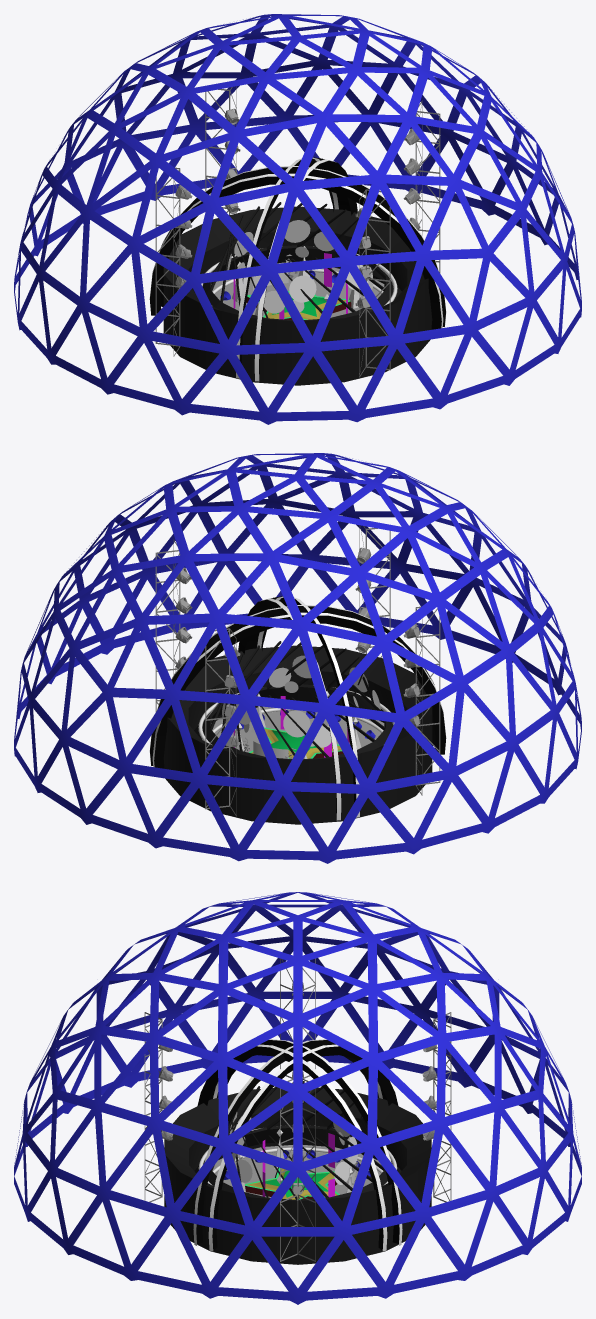
The model's file is stage.FBX.
3 views of the same model, one above another, from view 1: azimuth 30°, elevation 25°; view 2: azimuth 150°, elevation 25°; view 3: azimuth 270°, elevation 25° (orthographic).
Parts seen in each view (by area): view 1: GeoSphere001, Cylinder024, Cylinder023, Cylinder022, Object001, Cylinder001, Cylinder032, Plane043, Cylinder025, Plane044, Object006, Star001; view 2: GeoSphere001, Cylinder024, Cylinder022, Cylinder023, Object001, Cylinder001, Plane043, Plane042, Cylinder025, Cylinder032, Star001, Object006; view 3: GeoSphere001, Cylinder024, Cylinder022, Cylinder023, Object001, Cylinder001, Star001, Object006, Plane042, Plane044, Cylinder025.
Boxes of the visible parts, left/top/right/bottom form: GeoSphere001: left=14, top=14, right=581, bottom=424; Cylinder024: left=163, top=206, right=432, bottom=385; Cylinder023: left=149, top=166, right=446, bottom=329; Cylinder022: left=236, top=157, right=357, bottom=381; Object001: left=210, top=202, right=385, bottom=318; Cylinder001: left=211, top=267, right=384, bottom=317; Cylinder032: left=263, top=265, right=373, bottom=313; Plane043: left=155, top=167, right=180, bottom=356; Cylinder025: left=227, top=220, right=333, bottom=270; Plane044: left=359, top=189, right=390, bottom=377; Object006: left=415, top=100, right=440, bottom=273; Star001: left=246, top=291, right=351, bottom=319; GeoSphere001: left=14, top=453, right=581, bottom=863; Cylinder024: left=163, top=645, right=432, bottom=824; Cylinder022: left=149, top=605, right=446, bottom=768; Cylinder023: left=238, top=596, right=359, bottom=820; Object001: left=210, top=641, right=385, bottom=757; Cylinder001: left=211, top=706, right=384, bottom=752; Plane043: left=415, top=606, right=440, bottom=795; Plane042: left=205, top=628, right=236, bottom=816; Cylinder025: left=222, top=703, right=331, bottom=747; Cylinder032: left=269, top=655, right=380, bottom=709; Star001: left=249, top=727, right=343, bottom=758; Object006: left=155, top=539, right=180, bottom=712; GeoSphere001: left=14, top=892, right=581, bottom=1304; Cylinder024: left=164, top=1087, right=431, bottom=1264; Cylinder022: left=197, top=1039, right=402, bottom=1251; Cylinder023: left=193, top=1039, right=398, bottom=1251; Object001: left=211, top=1081, right=384, bottom=1199; Cylinder001: left=212, top=1145, right=380, bottom=1197; Star001: left=245, top=1167, right=339, bottom=1199; Object006: left=280, top=1079, right=315, bottom=1261; Plane042: left=433, top=1012, right=451, bottom=1202; Plane044: left=144, top=1012, right=162, bottom=1202; Cylinder025: left=333, top=1117, right=357, bottom=1184.
Bounding box in the file's own units: 1855 × 1069 × 1855.
